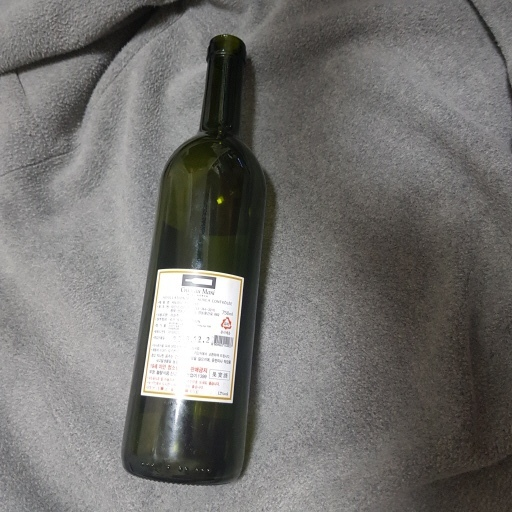Glass_2: (118, 32, 277, 487)
